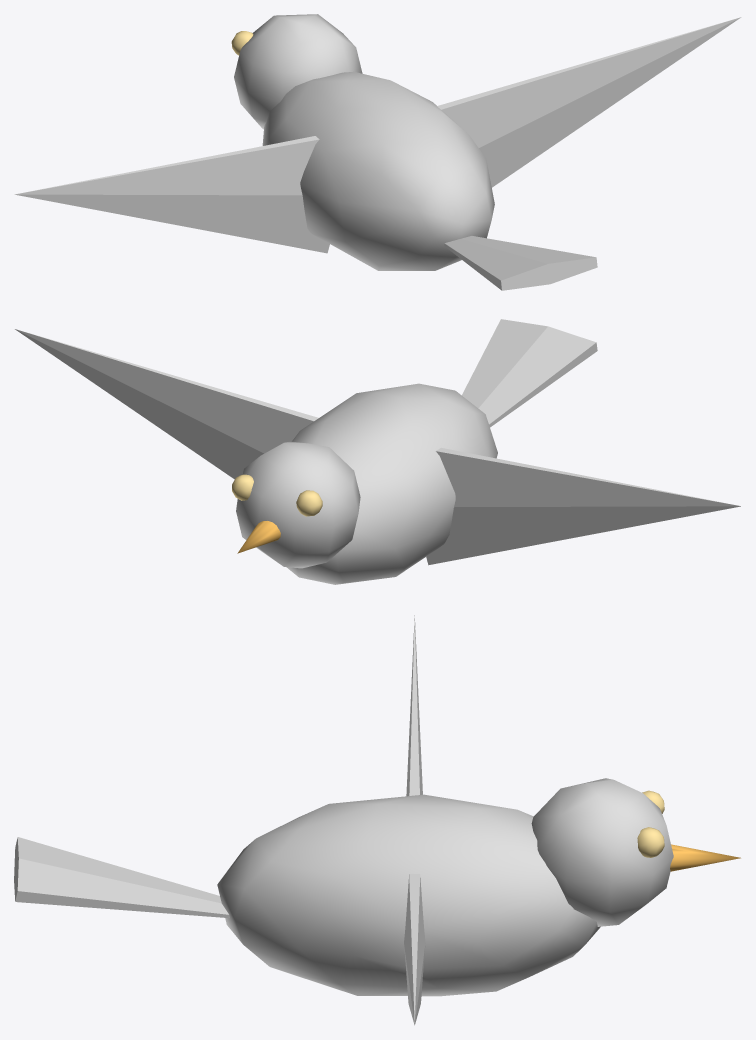
File: HarvestCrow.glb
3 renders of one model, top to bottom at view 1: azimuth 30°, elevation 25°; view 2: azimuth 150°, elevation 25°; view 3: azimuth 270°, elevation 25°, orthographic. The views are drawn at different scales.
Parts seen in each view (by area): view 1: Crow, WingRCrow, WingLCrow; view 2: Crow, WingRCrow, WingLCrow, Glow, Beak; view 3: Crow, WingLCrow, WingRCrow, Beak, Glow.
Part boxes in pixels (x1,y1,x2,y2): Crow: (234, 14, 597, 290); WingRCrow: (14, 136, 329, 253); WingLCrow: (437, 17, 741, 187); Crow: (236, 319, 597, 584); WingRCrow: (426, 447, 740, 565); WingLCrow: (15, 329, 318, 479); Glow: (232, 474, 322, 516); Beak: (237, 521, 280, 553); Crow: (14, 778, 673, 996); WingLCrow: (404, 874, 425, 1025); WingRCrow: (406, 615, 422, 796); Beak: (670, 844, 740, 871); Glow: (637, 790, 664, 857).
Bounding box in the file's own units: 1.58 × 0.3595 × 1.18.
